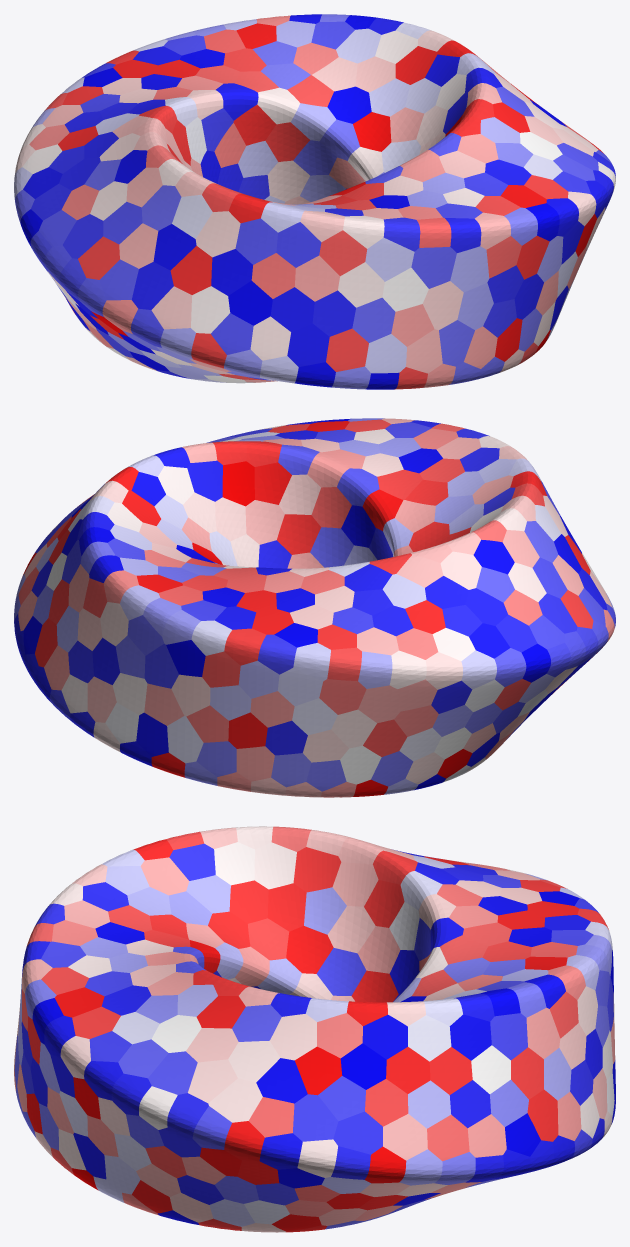
File: Ours_600_mobius1_Iter50_RVD.obj
3 views of the same model, one above another, from view 1: azimuth 30°, elevation 25°; view 2: azimuth 150°, elevation 25°; view 3: azimuth 270°, elevation 25° (orthographic). The views are drawn at different scales.
Parts seen in each view (by area): view 1: 3D_Object; view 2: 3D_Object; view 3: 3D_Object.
Part boxes in pixels (<box>): 3D_Object: <box>14,14,615,389</box>; 3D_Object: <box>14,418,615,797</box>; 3D_Object: <box>14,826,615,1232</box>.
Size of the model in its own units: 6.8 by 2.63 by 6.26.
1 material, 1 textured.
